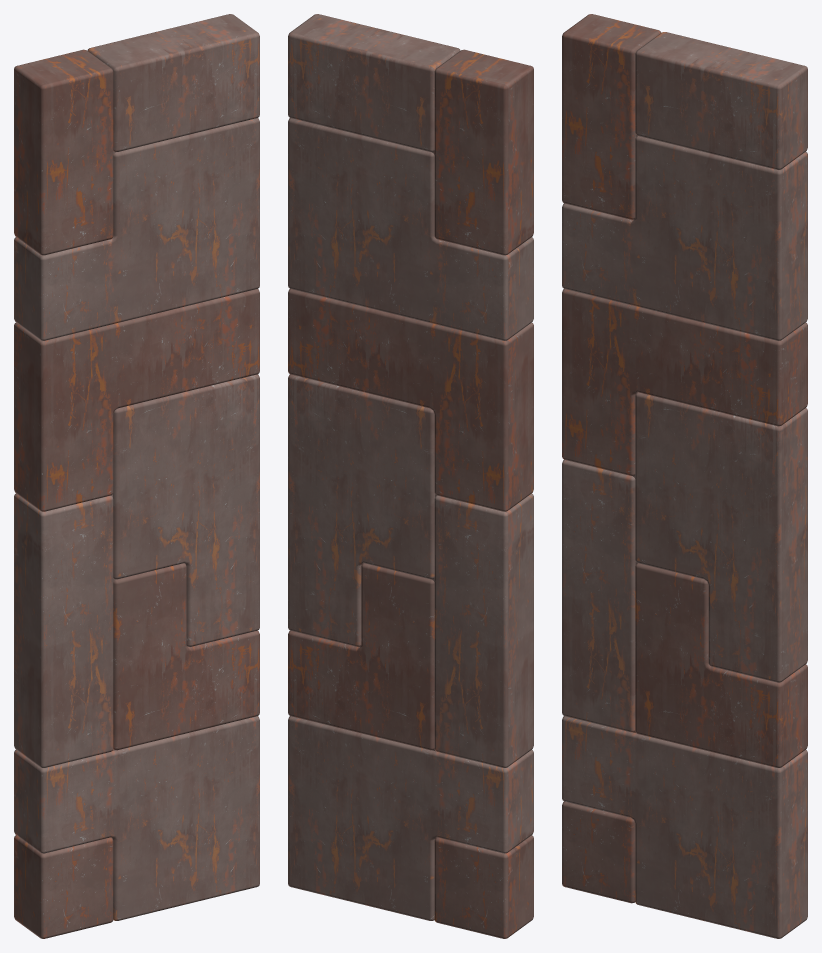
Rendered from wall_003.fbx.
3 views of the same model, side by side, from view 1: azimuth 30°, elevation 25°; view 2: azimuth 150°, elevation 25°; view 3: azimuth 330°, elevation 25° (orthographic).
Visible parts, largest first — view 1: wall_003; view 2: wall_003; view 3: wall_003.
Boxes of the visible parts, left/top/right/bottom form: wall_003: left=14, top=14, right=259, bottom=938; wall_003: left=288, top=14, right=533, bottom=938; wall_003: left=562, top=14, right=807, bottom=938.
Size of the model in its own units: 6503 by 1500 by 24154.
